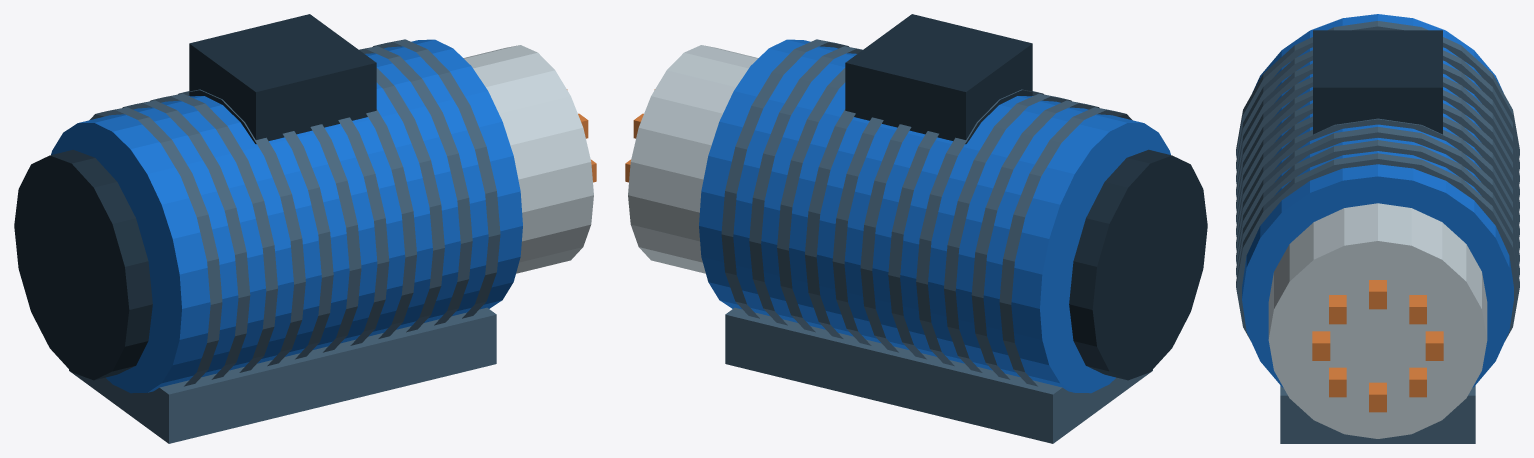
The model's file is 33_L75_VacuumBackingPump.fbx.
The picture shows the model from 3 angles, left to right: view 1: azimuth 30°, elevation 25°; view 2: azimuth 150°, elevation 25°; view 3: azimuth 270°, elevation 25°; orthographic projection. The views are drawn at different scales.
Parts seen in each view (by area): view 1: VacuumBackingPump, VacuumBackingPump_Part_0016; view 2: VacuumBackingPump, VacuumBackingPump_Part_0016; view 3: VacuumBackingPump, VacuumBackingPump_Part_0016, VacuumBackingPump_Part_0017, VacuumBackingPump_Part_0021, VacuumBackingPump_Part_0022, VacuumBackingPump_Part_0023, VacuumBackingPump_Part_0024, VacuumBackingPump_Part_0018, VacuumBackingPump_Part_0019, VacuumBackingPump_Part_0020.
Part boxes in pixels (x1,y1,x2,y2): VacuumBackingPump: (14,14,522,443); VacuumBackingPump_Part_0016: (463,45,593,273); VacuumBackingPump: (699,14,1207,443); VacuumBackingPump_Part_0016: (628,45,758,273); VacuumBackingPump: (1236,14,1519,443); VacuumBackingPump_Part_0016: (1268,203,1487,438); VacuumBackingPump_Part_0017: (1312,331,1330,360); VacuumBackingPump_Part_0021: (1425,331,1443,360); VacuumBackingPump_Part_0022: (1409,367,1426,397); VacuumBackingPump_Part_0023: (1369,382,1386,412); VacuumBackingPump_Part_0024: (1329,367,1346,397); VacuumBackingPump_Part_0018: (1329,295,1346,324); VacuumBackingPump_Part_0019: (1369,280,1386,309); VacuumBackingPump_Part_0020: (1409,295,1426,324).
Bounding box in the file's own units: 137 × 83.58 × 70.08.
